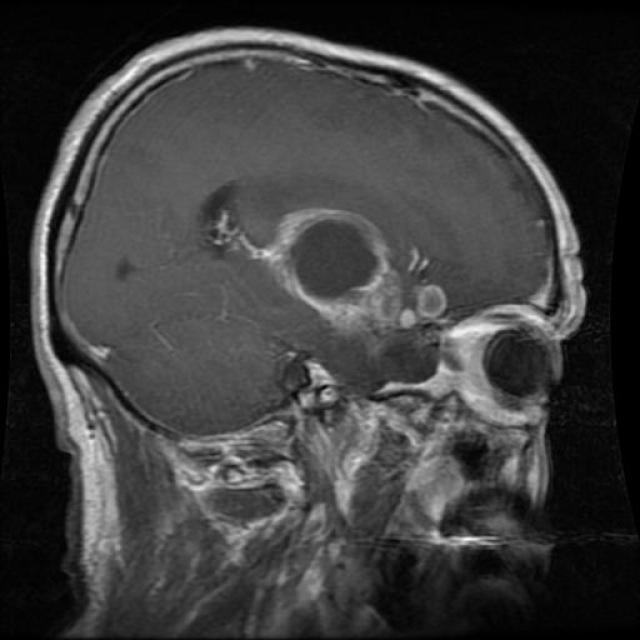Brain-Tumor: (241, 188, 453, 349)
eye: (425, 307, 577, 424)
